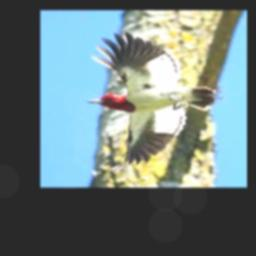Woodpecker: (86, 33, 222, 170)
